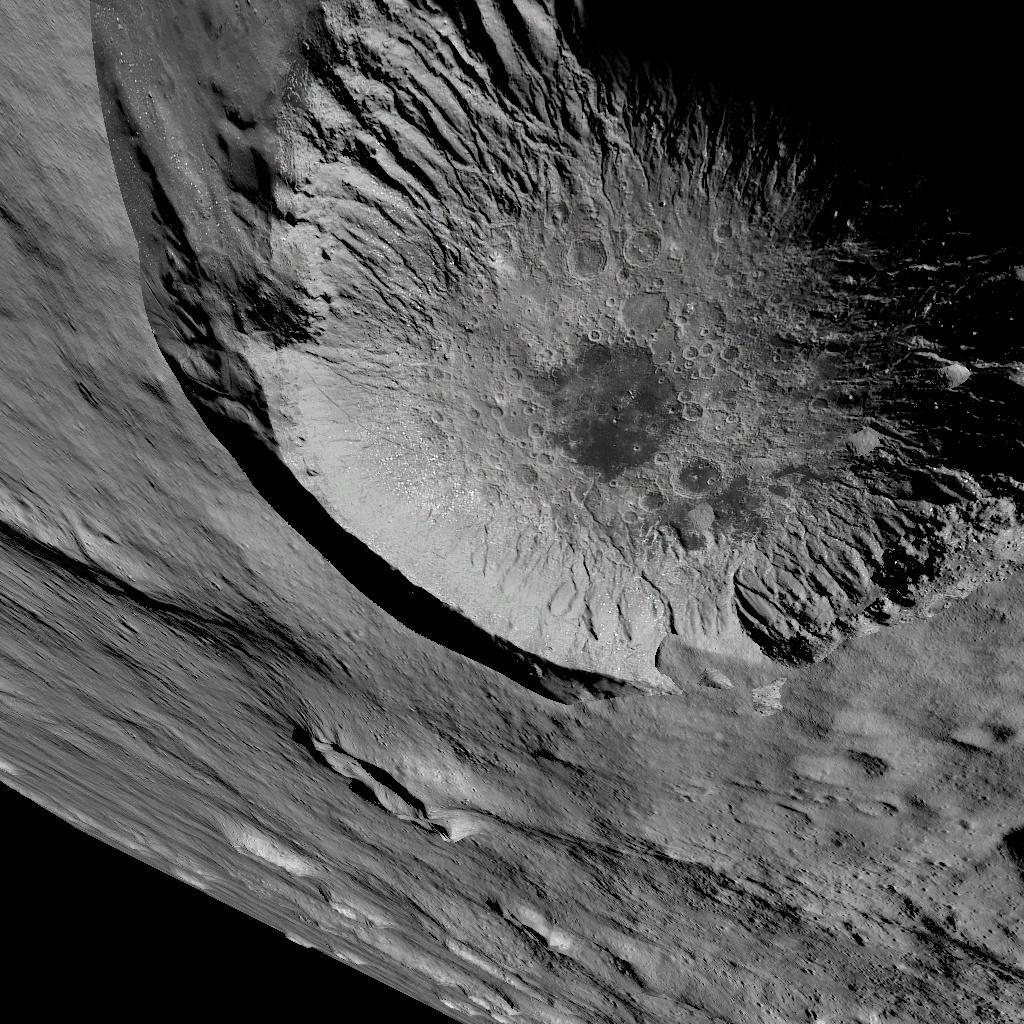Crater: (69, 6, 1024, 711), (278, 722, 448, 842)
Plan surface: (491, 738, 969, 1024)
